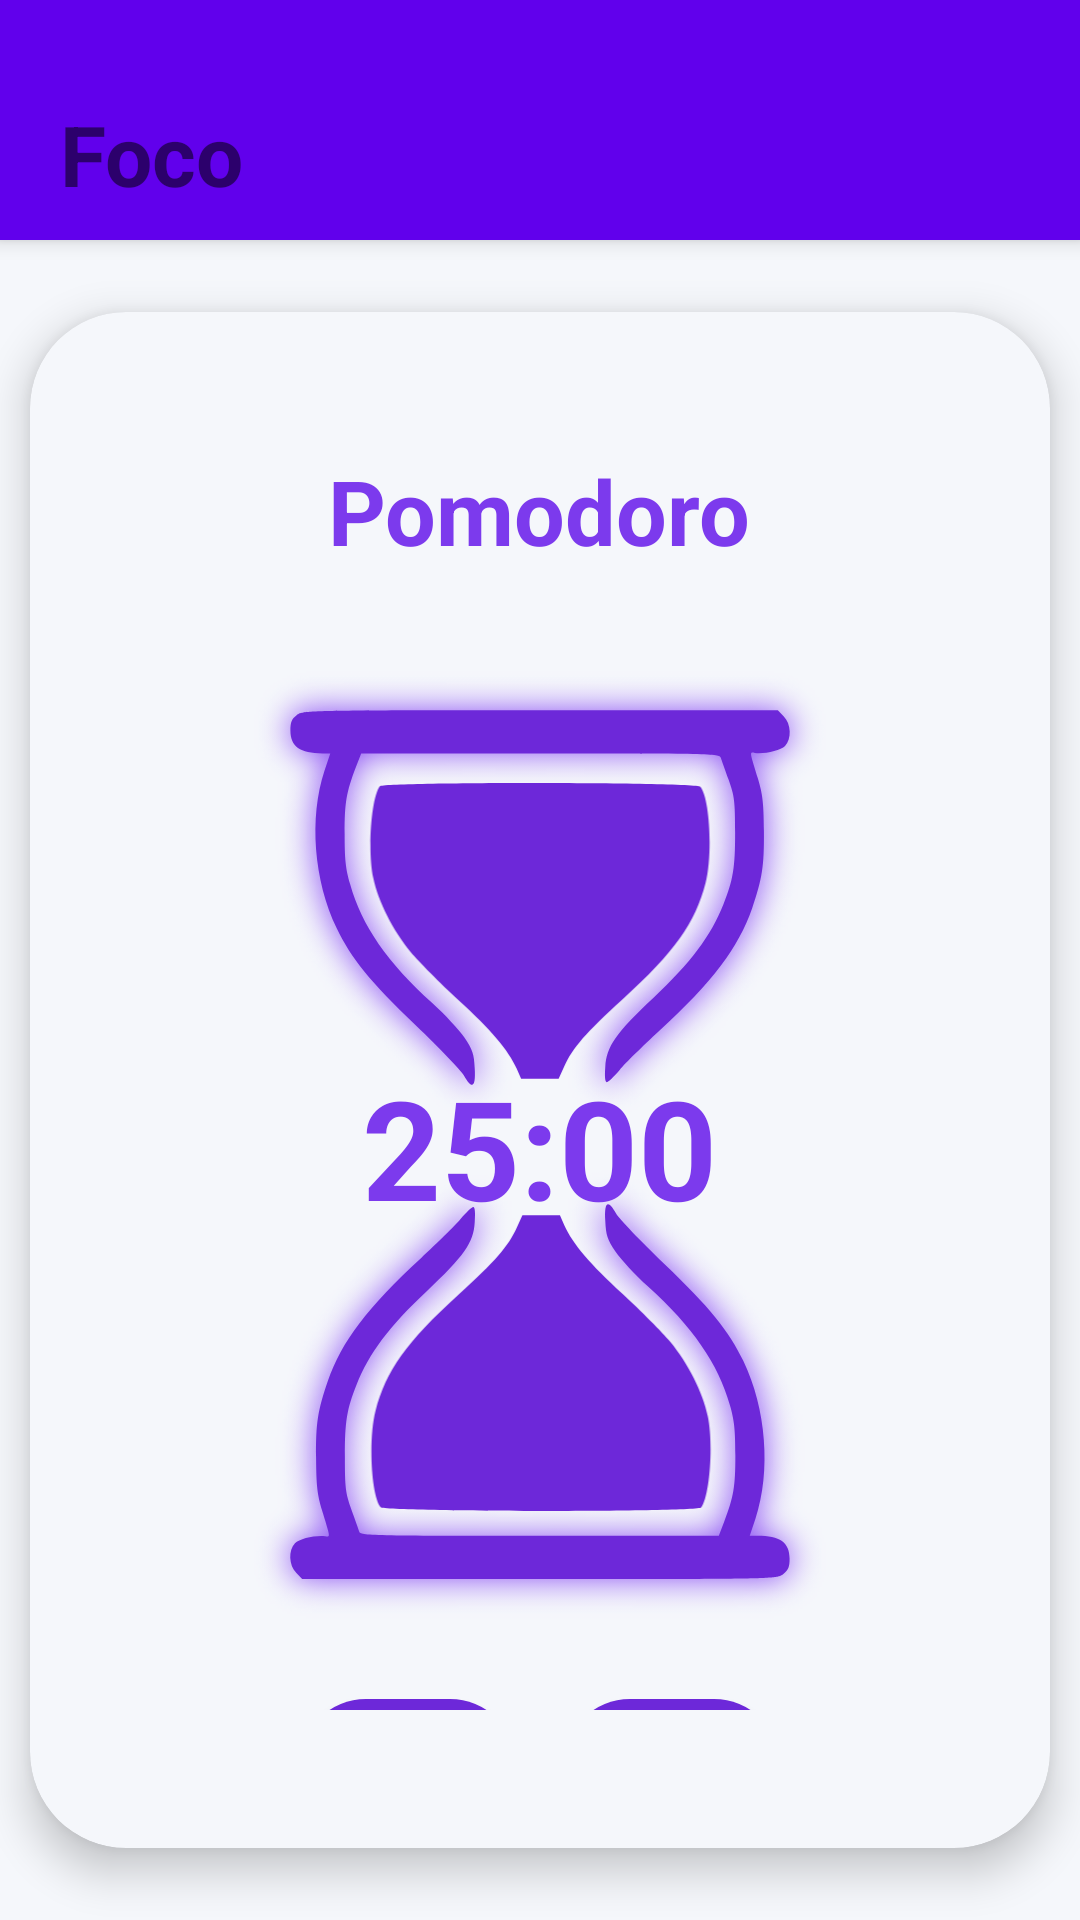

Named icons in this screenshot (1080px x 1920px) and their bounding boxes, (x1, y1, x2, y2):
sand bottom: (370, 1215, 712, 1511)
sand top: (369, 783, 711, 1079)
